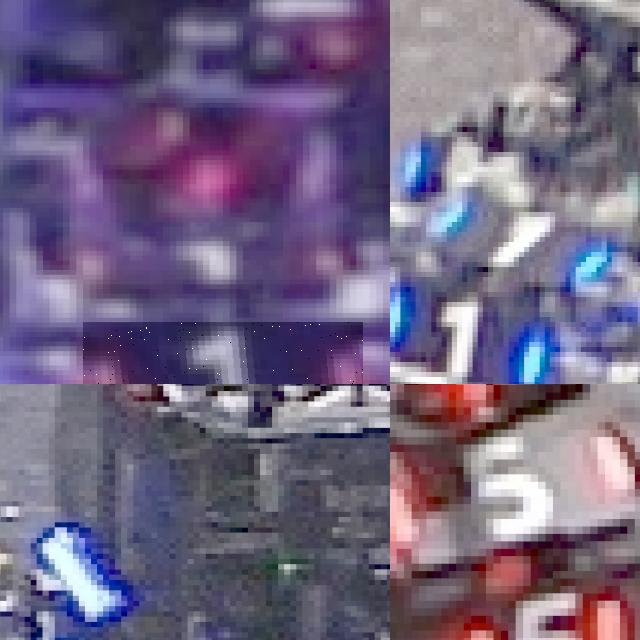B1: (413, 190, 604, 290), (390, 292, 557, 384)
B2: (12, 601, 78, 640)
R1: (83, 322, 363, 384)
R5: (463, 586, 620, 640)
